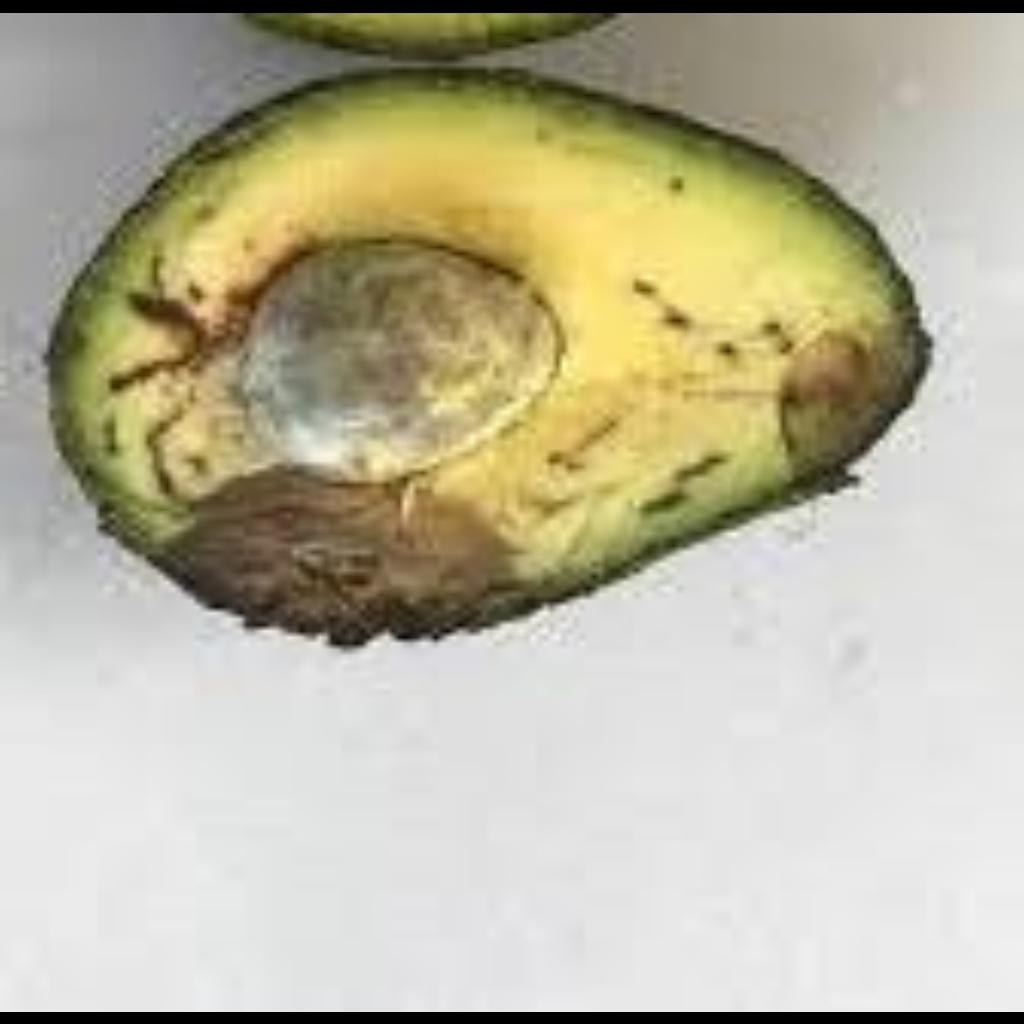antracnosis_fruto: (39, 113, 917, 649)
